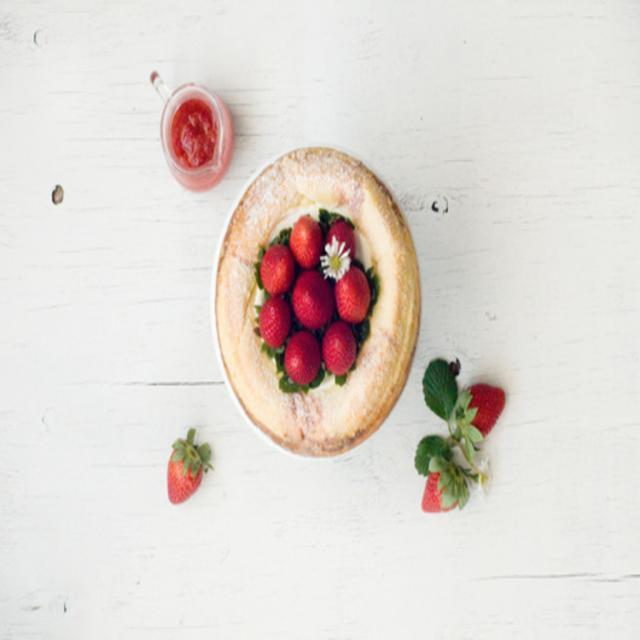Strawberry: (444, 382, 508, 466), (429, 453, 482, 520), (336, 268, 382, 344), (250, 288, 294, 358), (320, 209, 359, 281), (293, 266, 331, 330), (283, 329, 322, 389), (254, 235, 289, 299), (285, 216, 320, 278), (172, 435, 204, 501), (326, 320, 358, 386)
